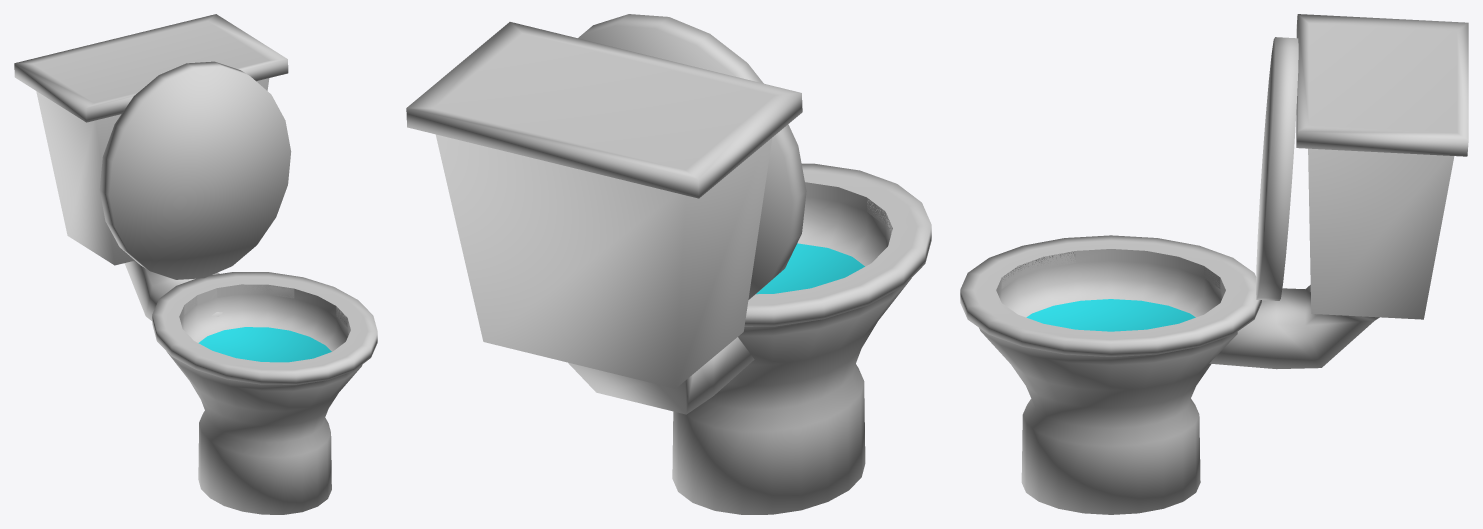
Rendered from Bater.fbx.
The picture shows the model from 3 angles, left to right: view 1: azimuth 30°, elevation 25°; view 2: azimuth 150°, elevation 25°; view 3: azimuth 270°, elevation 25°; orthographic projection. The views are drawn at different scales.
Parts seen in each view (by area): view 1: Bater_Geo; view 2: Bater_Geo; view 3: Bater_Geo.
Part boxes in pixels (x1=…): Bater_Geo: x1=14, y1=14, x2=377, y2=514; Bater_Geo: x1=406, y1=14, x2=931, y2=514; Bater_Geo: x1=960, y1=14, x2=1468, y2=514.
Size of the model in its own units: 68.45 by 118 by 125.
